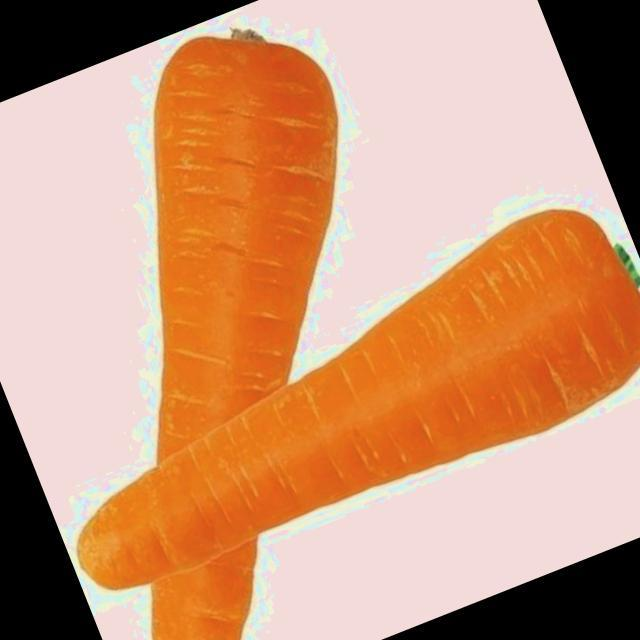carrot: (79, 210, 640, 588), (152, 38, 338, 640)
